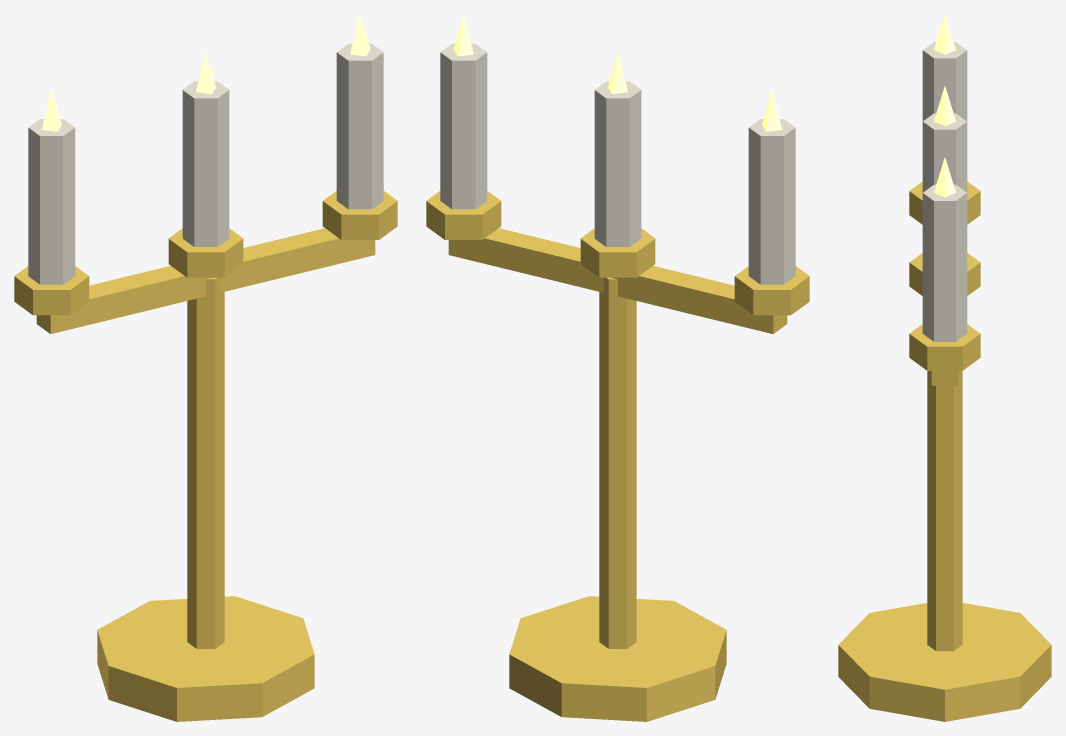
The model's file is SM_Candelabra.glb.
The picture shows the model from 3 angles, left to right: view 1: azimuth 30°, elevation 25°; view 2: azimuth 150°, elevation 25°; view 3: azimuth 270°, elevation 25°; orthographic projection. The views are drawn at different scales.
Visible parts, largest first — view 1: SM_Candelabra; view 2: SM_Candelabra; view 3: SM_Candelabra.
Boxes of the visible parts, x1=… form: SM_Candelabra: x1=14, y1=14, x2=397, y2=721; SM_Candelabra: x1=426, y1=14, x2=809, y2=721; SM_Candelabra: x1=838, y1=15, x2=1051, y2=721.
Size of the model in its own units: 0.4493 by 0.735 by 0.24.
